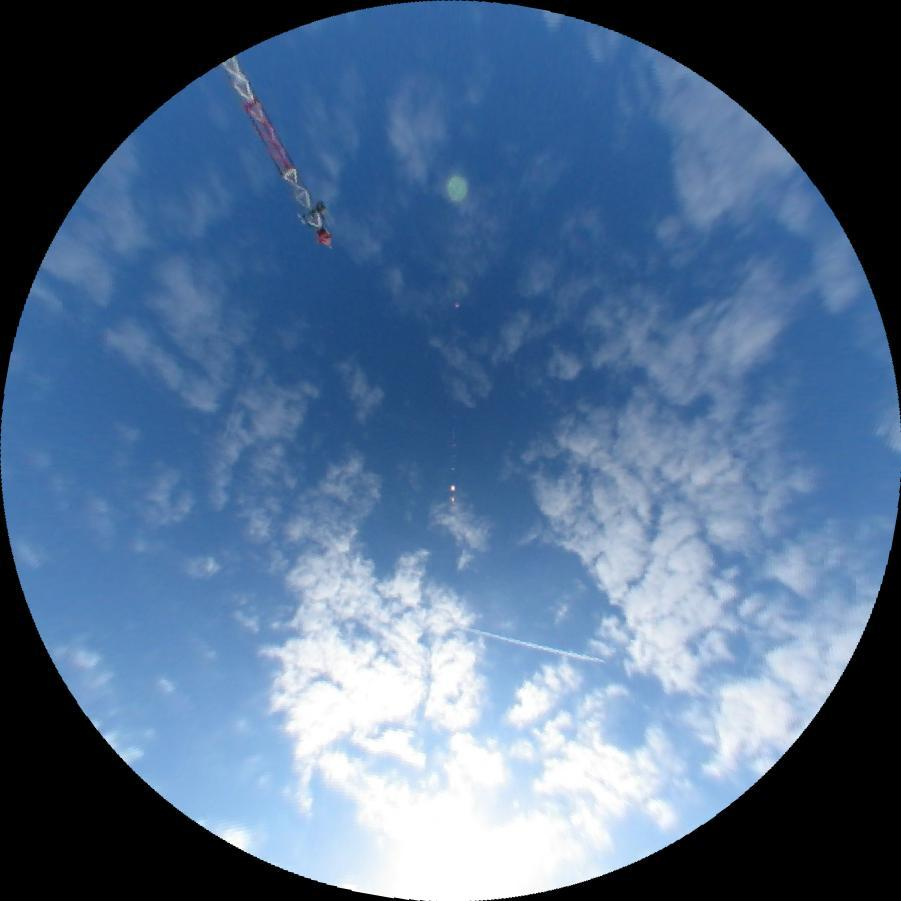contrail young: (459, 626, 605, 665), (220, 348, 256, 439), (740, 614, 774, 672)
sun: (384, 810, 551, 901)
